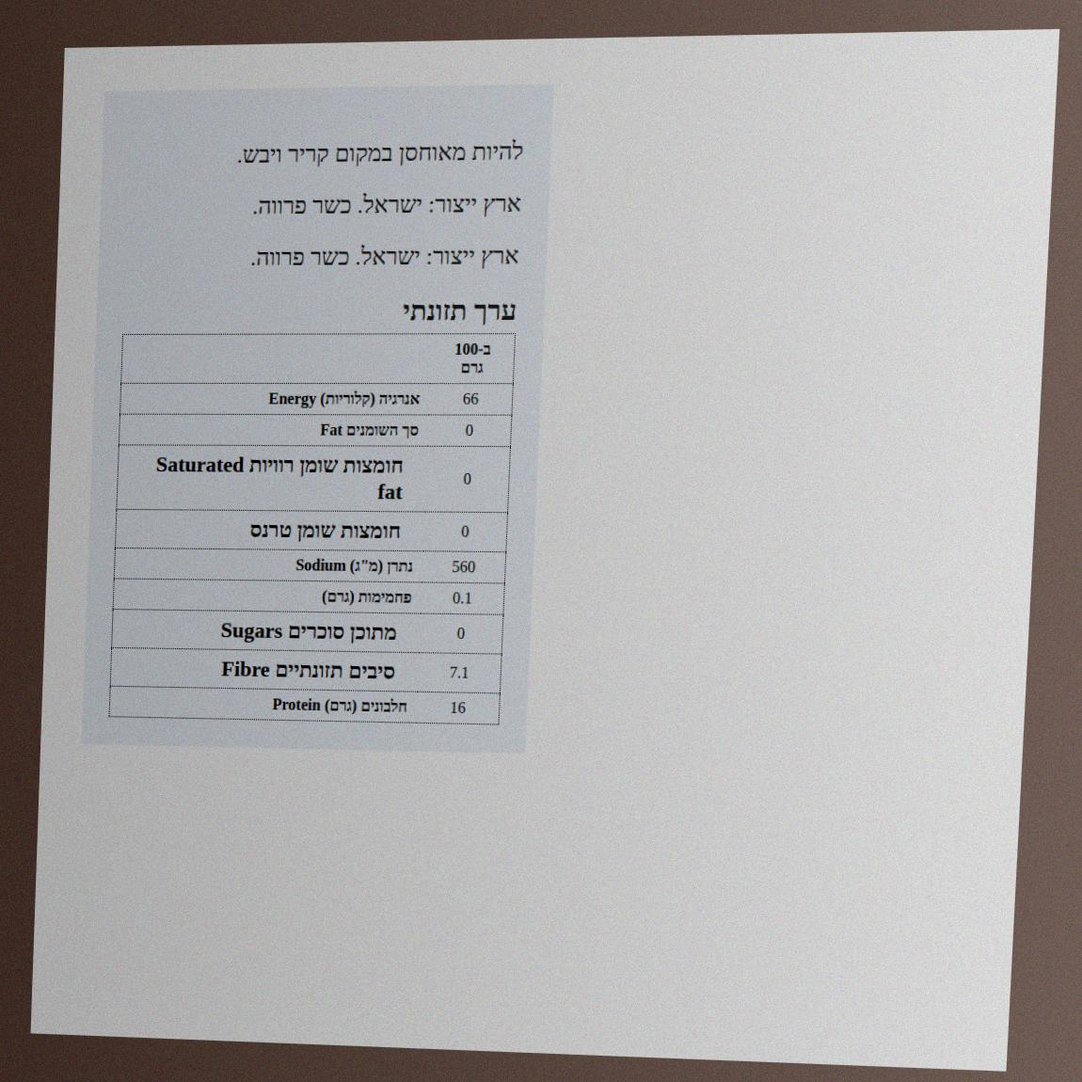carbs: (450, 587, 475, 609)
energy: (460, 388, 481, 409)
fat: (463, 420, 476, 441)
protein: (448, 697, 468, 718)
